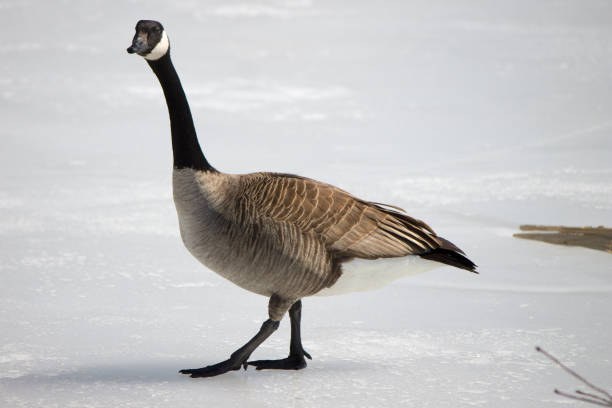goose: (123, 17, 483, 383)
